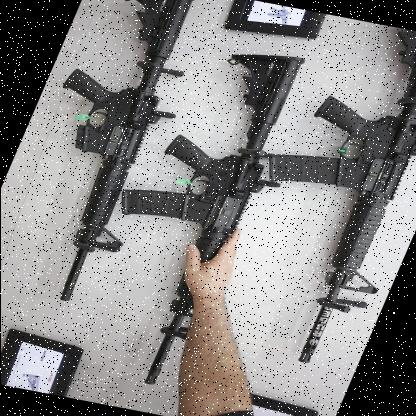rifle: (46, 27, 319, 392), (0, 0, 224, 314), (232, 25, 416, 372)
